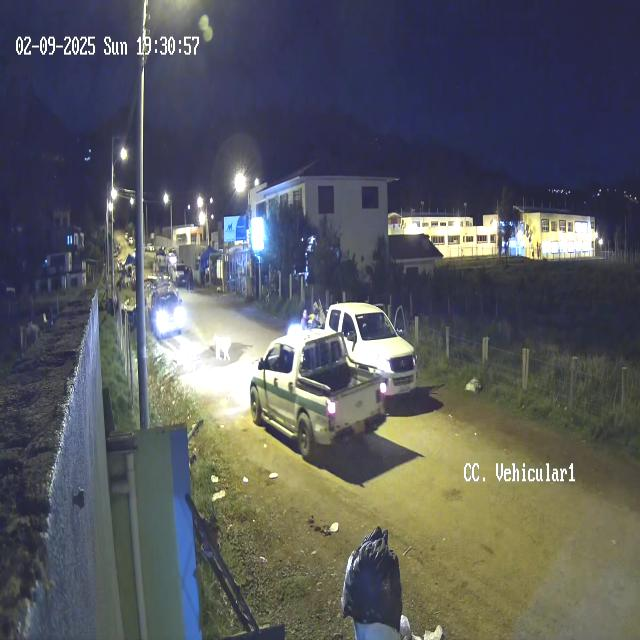CMT: (248, 329, 387, 461)
